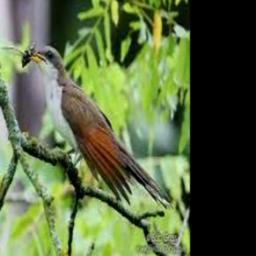Cuckoo: (30, 46, 172, 210)
